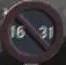No waiting: (3, 3, 62, 58)
